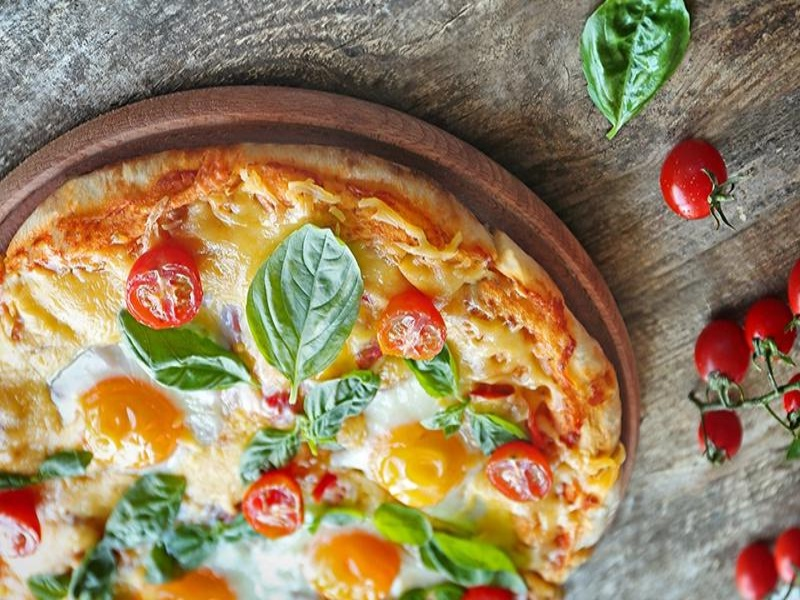oeuf: (68, 371, 198, 481), (364, 409, 477, 515), (299, 523, 411, 600)
